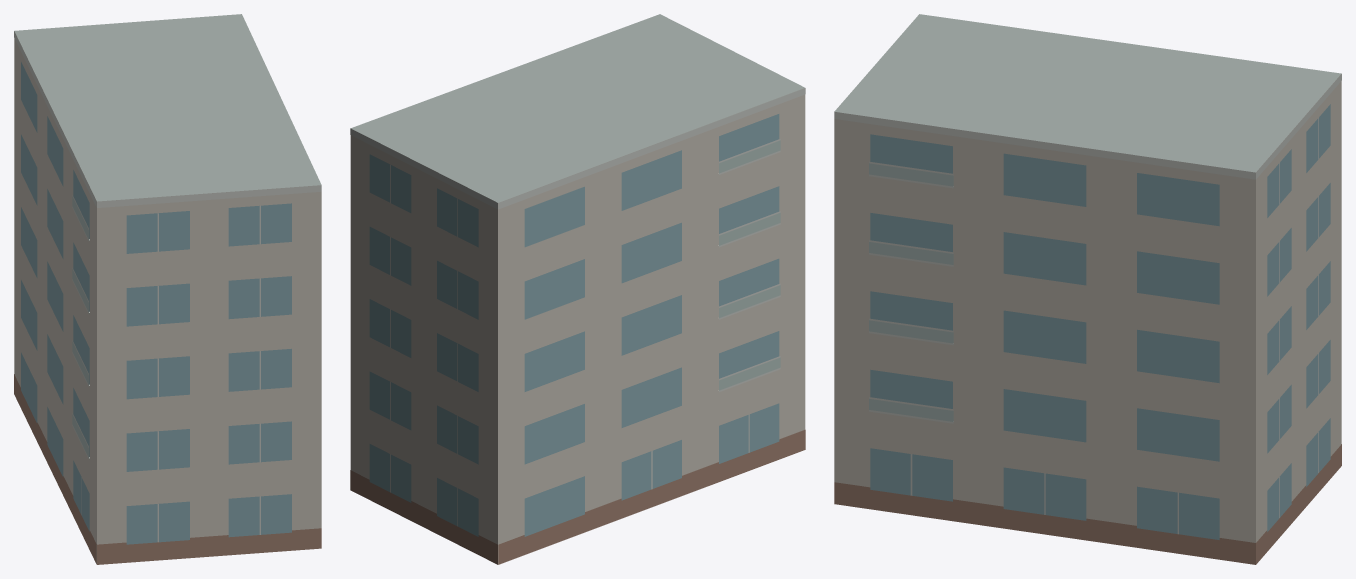
File: survey-upis-32849538.glb
The picture shows the model from 3 angles, left to right: view 1: azimuth 30°, elevation 25°; view 2: azimuth 150°, elevation 25°; view 3: azimuth 270°, elevation 25°; orthographic projection. The views are drawn at different scales.
Visible parts, largest first — view 1: survey-upis-32849538.tmp; view 2: survey-upis-32849538.tmp; view 3: survey-upis-32849538.tmp.
Boxes of the visible parts, x1,y1,x2,y2 form: survey-upis-32849538.tmp: (14, 14, 321, 564); survey-upis-32849538.tmp: (350, 14, 805, 564); survey-upis-32849538.tmp: (834, 14, 1341, 564).
Bounding box in the file's own units: 11.62 × 13.4 × 15.72.
